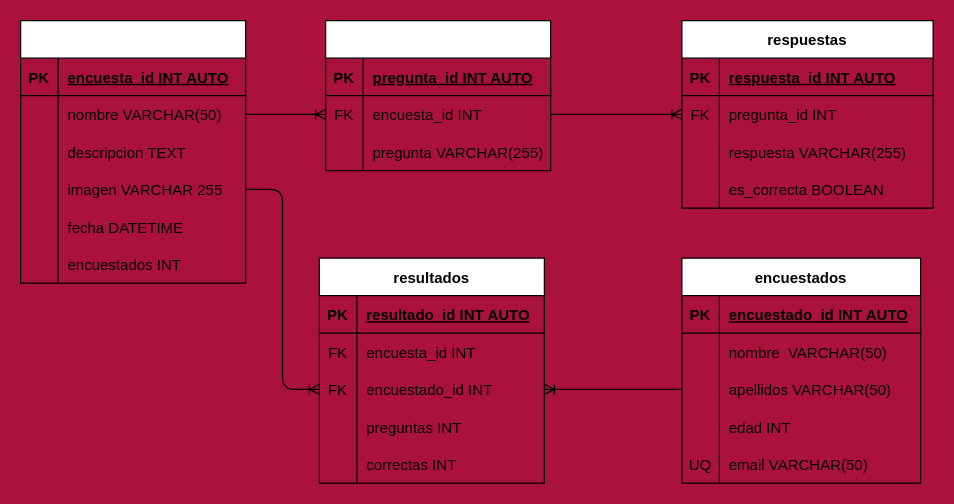
This 954x504 diagram has some shape labels left out. Here are the shapes that lost their labels. From the top down, the box of each, then its label:
(324, 19, 551, 171): preguntas
(19, 19, 246, 283): encuestas
